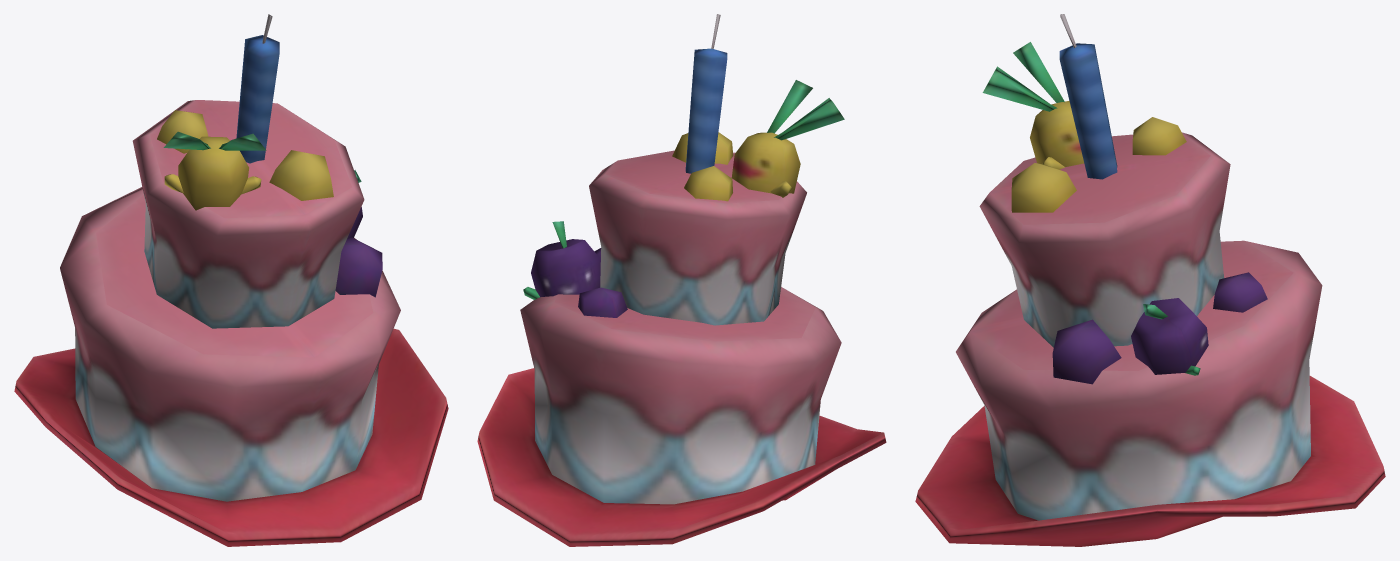
Rendered from cakeHat.glb.
3 renders of one model, left to right at view 1: azimuth 30°, elevation 25°; view 2: azimuth 150°, elevation 25°; view 3: azimuth 270°, elevation 25°, orthographic. The views are drawn at different scales.
Parts seen in each view (by area): view 1: cakeHat; view 2: cakeHat; view 3: cakeHat.
Boxes of the visible parts, bbox=[...] form: cakeHat: bbox=[14, 14, 448, 546]; cakeHat: bbox=[477, 14, 886, 546]; cakeHat: bbox=[915, 14, 1385, 546].
Size of the model in its own units: 0.4774 by 0.6089 by 0.5321.
Materials: 1 (1 with a texture image).
